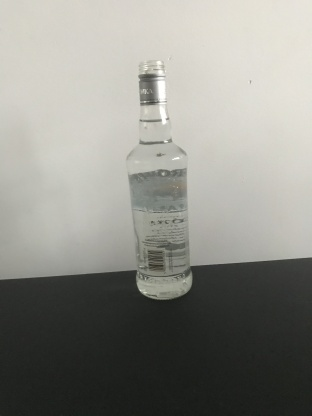nakretka: (137, 58, 168, 108)
